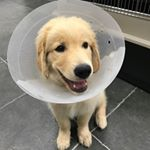puppy: (33, 13, 114, 148)
